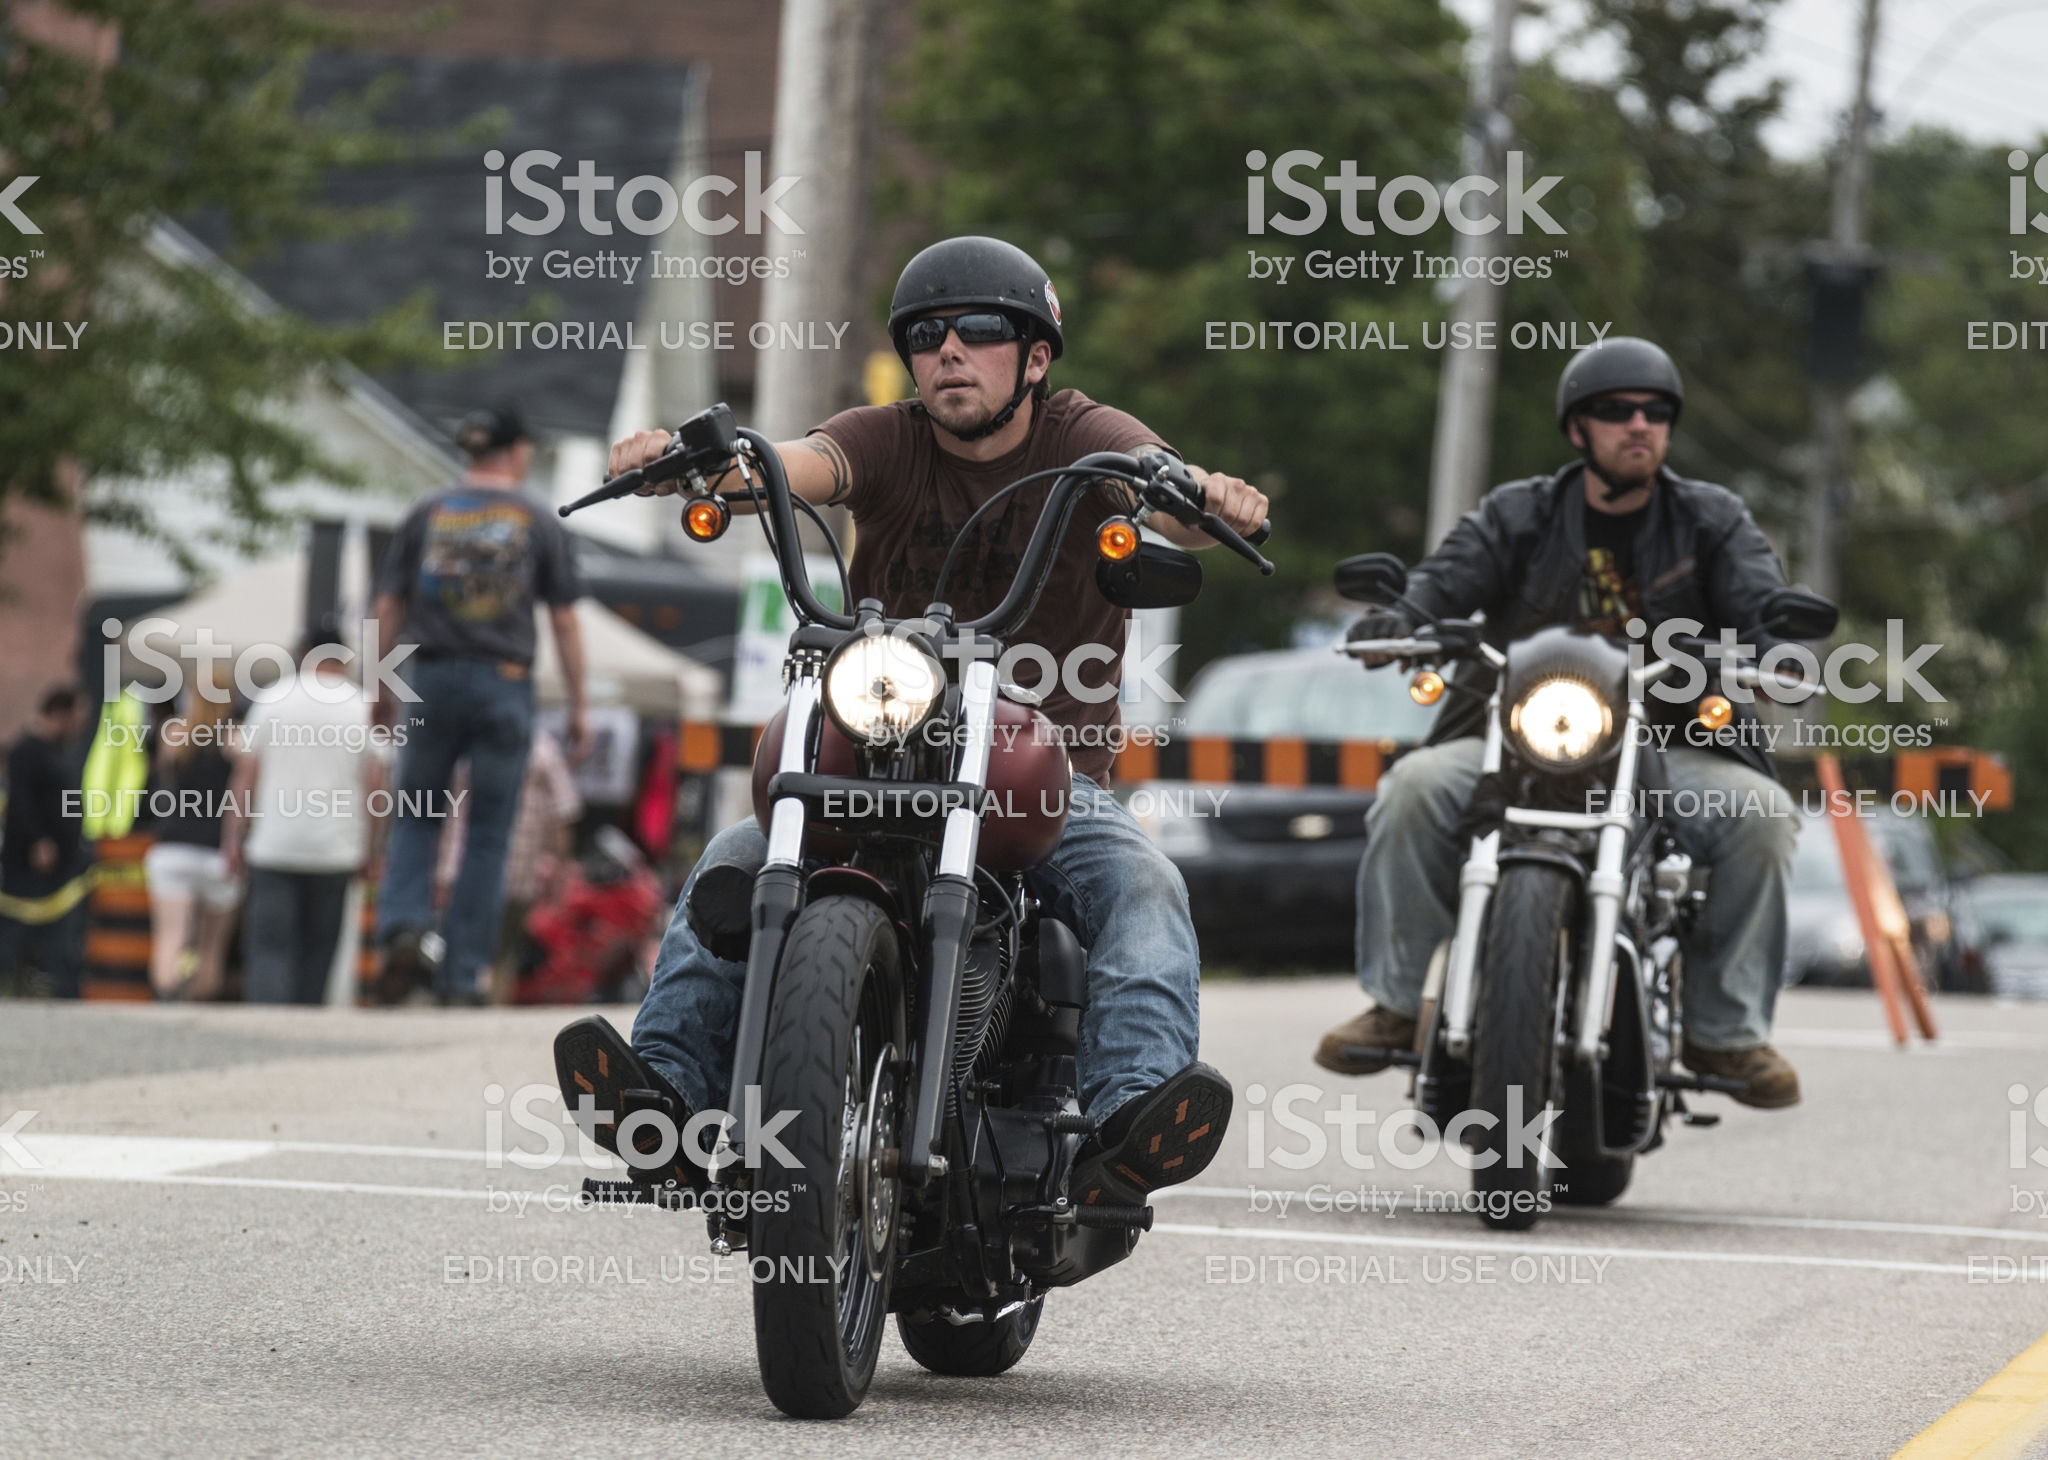helmet: (888, 209, 1119, 362), (1549, 321, 1718, 401)
